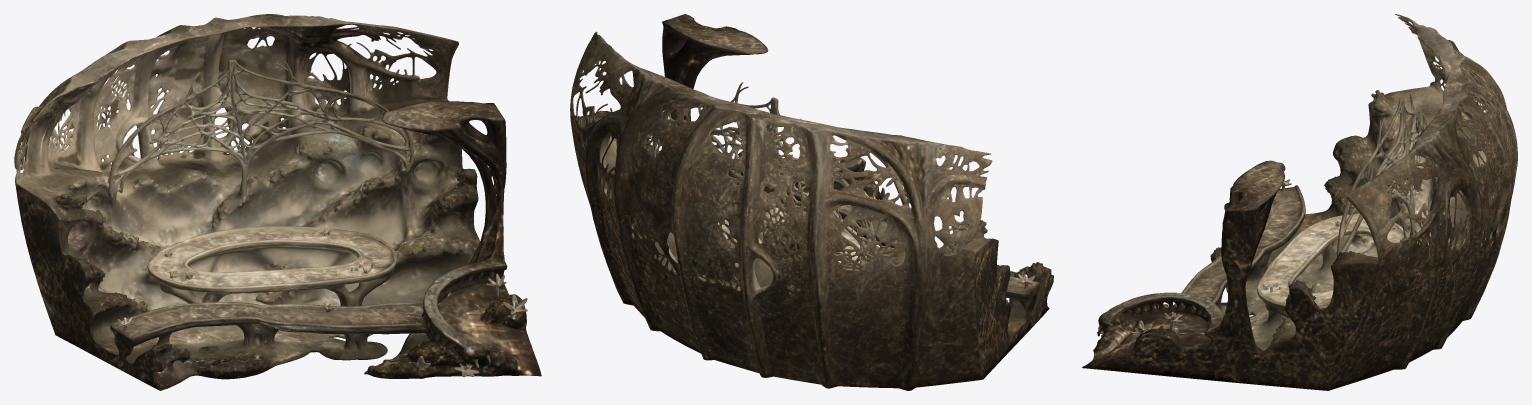
File: grounds.glb
The picture shows the model from 3 angles, left to right: view 1: azimuth 30°, elevation 25°; view 2: azimuth 150°, elevation 25°; view 3: azimuth 270°, elevation 25°; orthographic projection. The views are drawn at different scales.
Visible parts, largest first — view 1: tripo_node_46c2488b-5f57-4e31-9b51-30268e0e8d7d; view 2: tripo_node_46c2488b-5f57-4e31-9b51-30268e0e8d7d; view 3: tripo_node_46c2488b-5f57-4e31-9b51-30268e0e8d7d.
Boxes of the visible parts, bbox=[...] form: tripo_node_46c2488b-5f57-4e31-9b51-30268e0e8d7d: bbox=[14, 14, 541, 390]; tripo_node_46c2488b-5f57-4e31-9b51-30268e0e8d7d: bbox=[570, 14, 1053, 390]; tripo_node_46c2488b-5f57-4e31-9b51-30268e0e8d7d: bbox=[1082, 14, 1517, 390].
Size of the model in its own units: 0.981 by 0.5447 by 0.9782.
1 material, 1 textured.
